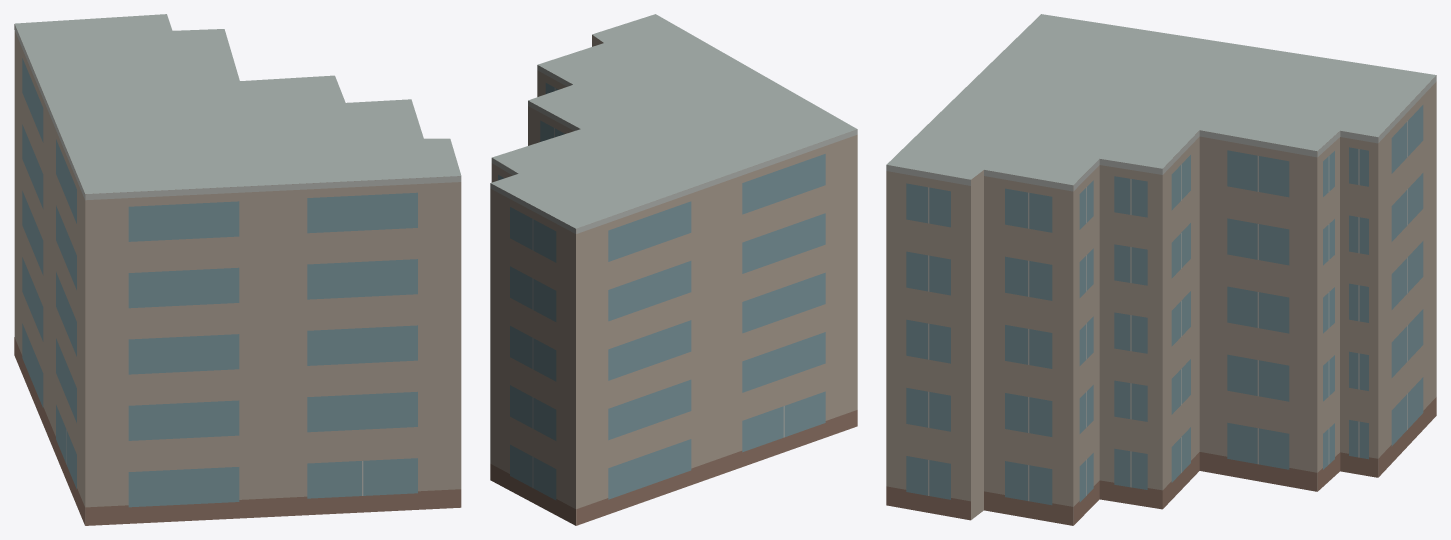
Rendered from survey-upis-32590709.glb.
3 views of the same model, side by side, from view 1: azimuth 30°, elevation 25°; view 2: azimuth 150°, elevation 25°; view 3: azimuth 270°, elevation 25° (orthographic). The views are drawn at different scales.
Visible parts, largest first — view 1: survey-upis-32590709.tmp; view 2: survey-upis-32590709.tmp; view 3: survey-upis-32590709.tmp.
Part boxes in pixels (x1,y1,x2,y2): survey-upis-32590709.tmp: [14, 14, 461, 525]; survey-upis-32590709.tmp: [490, 14, 857, 525]; survey-upis-32590709.tmp: [886, 14, 1436, 525].
Bounding box in the file's own units: 14.36 × 13.3 × 19.48.
